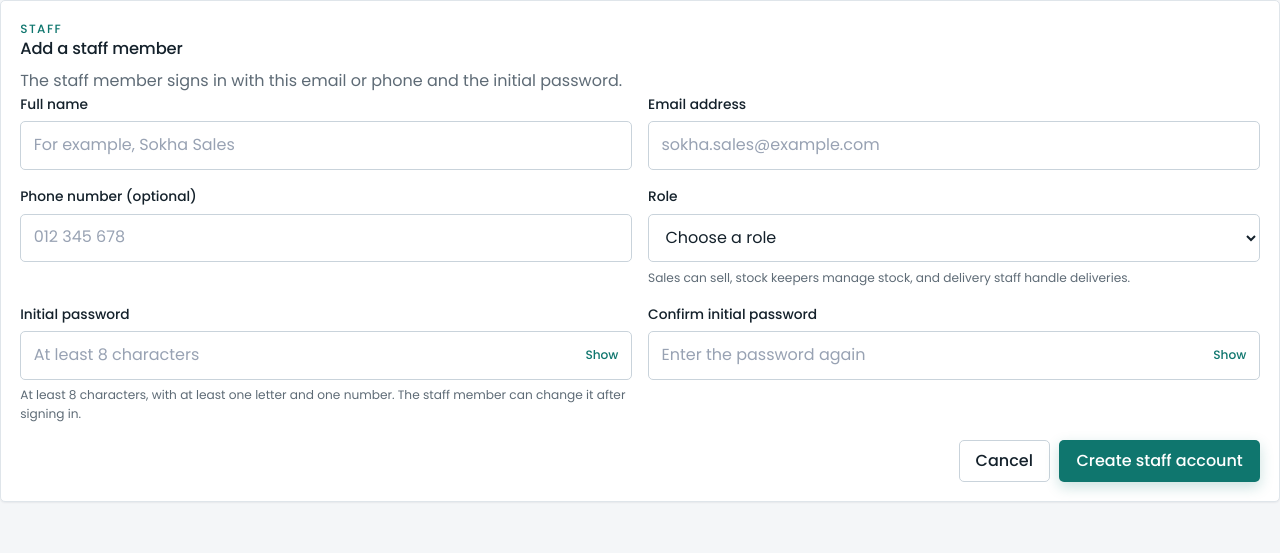
it: StaffForm › validates required fields before creating a staff account
Click the button "Create staff account" at (1160, 461), box [1060,440,1260,482]
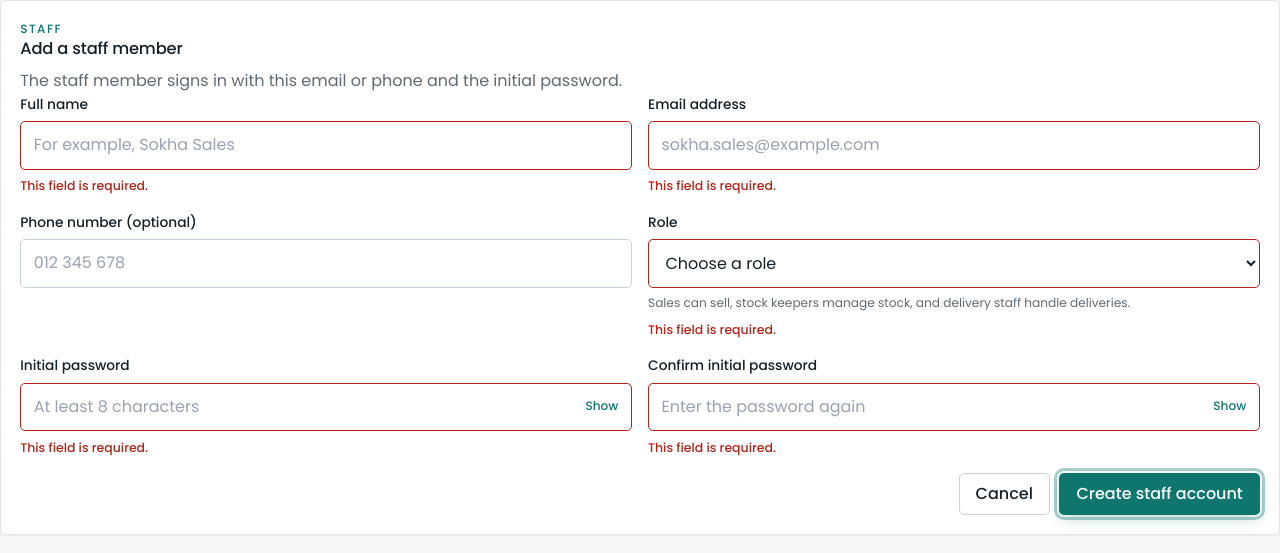
Now the text "This field is required." is shown 5 times, box [20,177,148,194]; [648,177,776,194]; [648,321,776,338]; [20,439,148,456]; [648,439,776,456]
